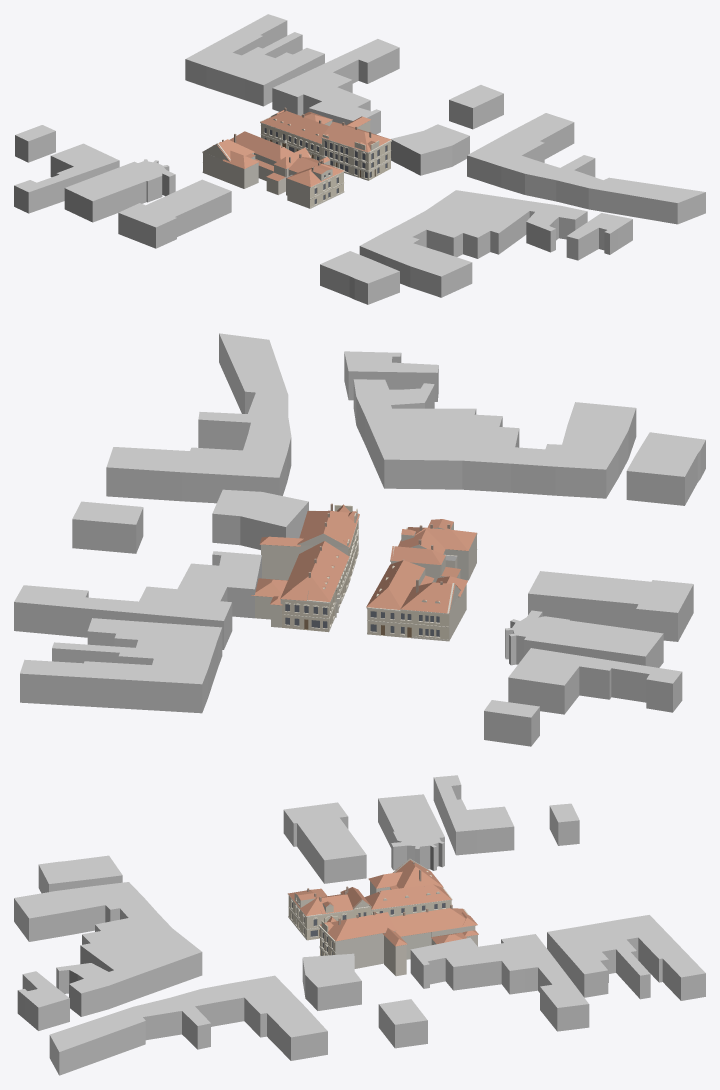
Rendered from u_prazske_brany_street.glb.
3 renders of one model, top to bottom at view 1: azimuth 30°, elevation 25°; view 2: azimuth 150°, elevation 25°; view 3: azimuth 270°, elevation 25°, orthographic. The views are drawn at different scales.
Visible parts, largest first — view 1: Context_GIS_327, Context_GIS_326, Context_GIS_381, Context_GIS_347, Context_GIS_404, Context_GIS_318, Context_GIS_402, Context_GIS_377, Context_GIS_344, Context_GIS_398, Context_GIS_407, Context_GIS_336 (+30 smaller); view 2: Context_GIS_347, Context_GIS_327, Context_GIS_326, Context_GIS_377, Context_GIS_318, Context_GIS_406, Context_GIS_403, Context_GIS_344, Context_GIS_376, Context_GIS_404, Context_GIS_381, Context_GIS_410 (+33 smaller); view 3: Context_GIS_327, Context_GIS_381, Context_GIS_326, Context_GIS_347, Context_GIS_334, Context_GIS_402, Context_GIS_376, Context_GIS_407, Context_GIS_406, Context_GIS_398, Context_GIS_318, Context_GIS_377 (+31 smaller).
Boxes of the visible parts, x1=… form: Context_GIS_327: x1=118, y1=179, x2=231, y2=248; Context_GIS_326: x1=64, y1=159, x2=175, y2=222; Context_GIS_381: x1=588, y1=177, x2=705, y2=224; Context_GIS_347: x1=185, y1=14, x2=287, y2=87; Context_GIS_404: x1=404, y1=210, x2=490, y2=258; Context_GIS_318: x1=14, y1=154, x2=119, y2=213; Context_GIS_402: x1=457, y1=195, x2=529, y2=254; Context_GIS_377: x1=467, y1=131, x2=544, y2=187; Context_GIS_344: x1=272, y1=54, x2=358, y2=115; Context_GIS_398: x1=566, y1=213, x2=632, y2=260; Context_GIS_407: x1=410, y1=251, x2=472, y2=297; Context_GIS_336: x1=391, y1=131, x2=452, y2=175; Context_GIS_347: x1=20, y1=659, x2=208, y2=713; Context_GIS_327: x1=528, y1=571, x2=693, y2=641; Context_GIS_326: x1=505, y1=610, x2=663, y2=667; Context_GIS_377: x1=182, y1=447, x2=287, y2=503; Context_GIS_318: x1=523, y1=648, x2=682, y2=712; Context_GIS_406: x1=555, y1=426, x2=628, y2=498; Context_GIS_403: x1=374, y1=437, x2=462, y2=489; Context_GIS_344: x1=80, y1=594, x2=232, y2=649; Context_GIS_376: x1=106, y1=447, x2=189, y2=501; Context_GIS_404: x1=456, y1=414, x2=519, y2=492; Context_GIS_381: x1=219, y1=333, x2=287, y2=413; Context_GIS_410: x1=626, y1=448, x2=700, y2=505; Context_GIS_327: x1=283, y1=802, x2=366, y2=883; Context_GIS_381: x1=49, y1=1007, x2=145, y2=1075; Context_GIS_326: x1=378, y1=794, x2=444, y2=870; Context_GIS_347: x1=622, y1=915, x2=705, y2=1000; Context_GIS_334: x1=410, y1=937, x2=489, y2=990; Context_GIS_402: x1=80, y1=936, x2=168, y2=998; Context_GIS_376: x1=267, y1=1007, x2=327, y2=1060; Context_GIS_407: x1=14, y1=891, x2=71, y2=941; Context_GIS_406: x1=55, y1=882, x2=144, y2=934; Context_GIS_398: x1=17, y1=971, x2=69, y2=1030; Context_GIS_318: x1=433, y1=775, x2=476, y2=855; Context_GIS_377: x1=231, y1=975, x2=304, y2=1037.
Bounding box in the file's own units: 202 × 15.2 × 213.
